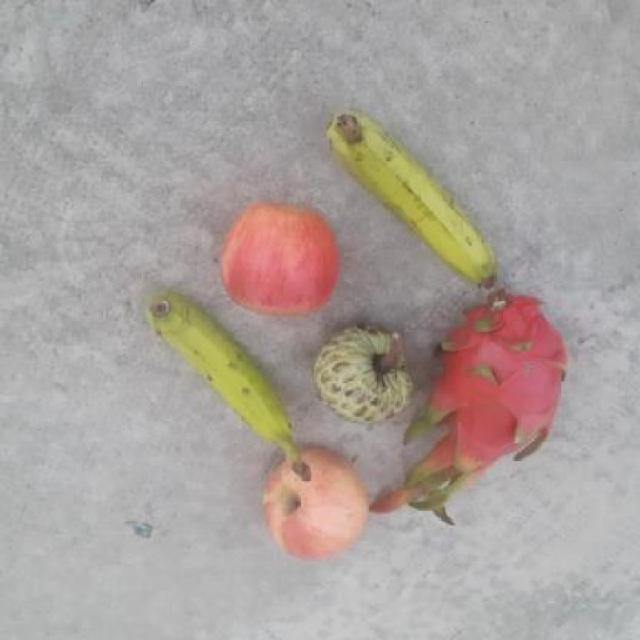apple: (216, 198, 342, 321), (264, 445, 371, 563)
banana: (144, 290, 318, 479), (326, 113, 502, 290)
dragon fruit: (421, 288, 575, 479)
sugar apple: (310, 322, 415, 426)
